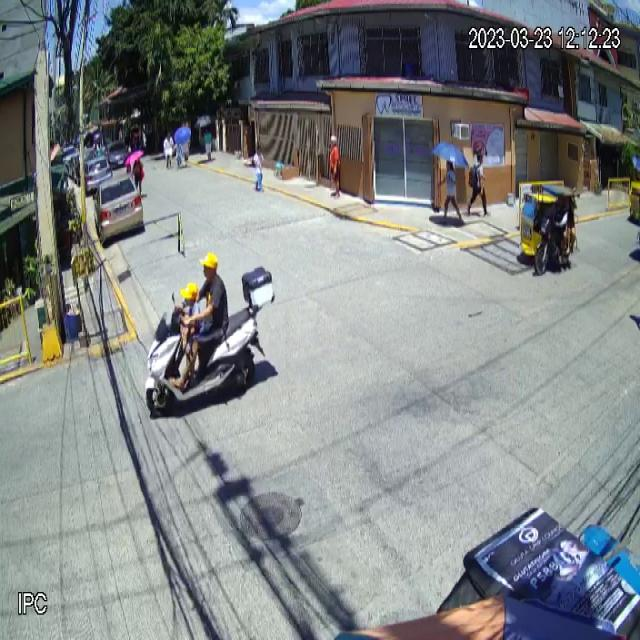Motorcycle: (145, 265, 275, 417)
Tricycle: (518, 184, 578, 276)
